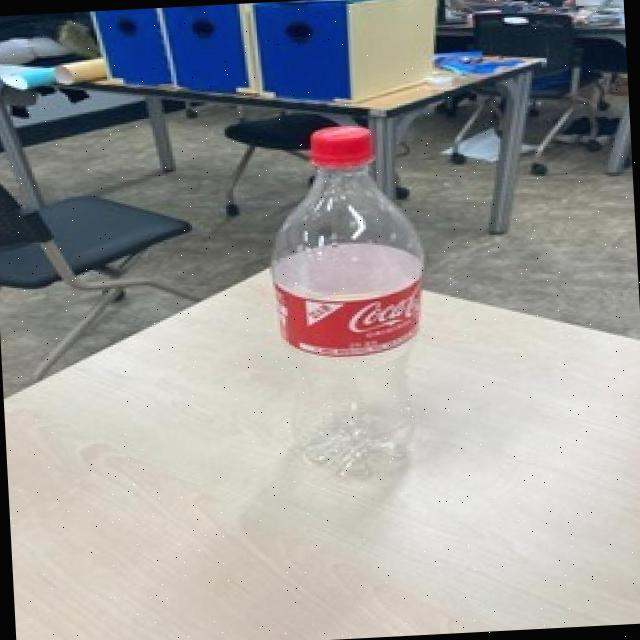bottle: (258, 114, 437, 494)
cap: (302, 128, 378, 176)
label: (262, 262, 450, 360)
